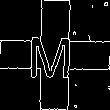M_N: (32, 30, 78, 80)
